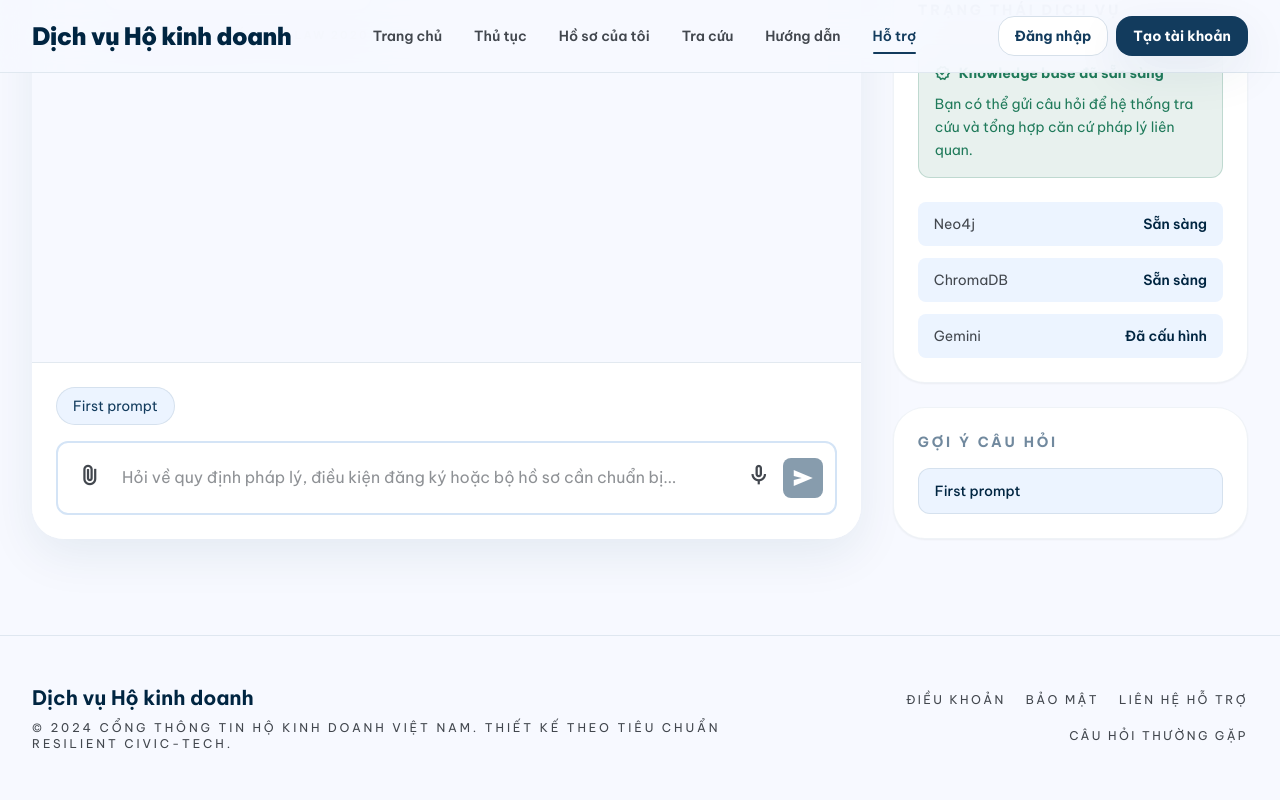
Test: Support experience › loads the support session and sends a legal assistant message with history
(page scrolled)
Type "What is required?" into the text box with placeholder "Hỏi về quy định pháp lý" at [424, 479], box [122, 457, 727, 501]
Then press Enter
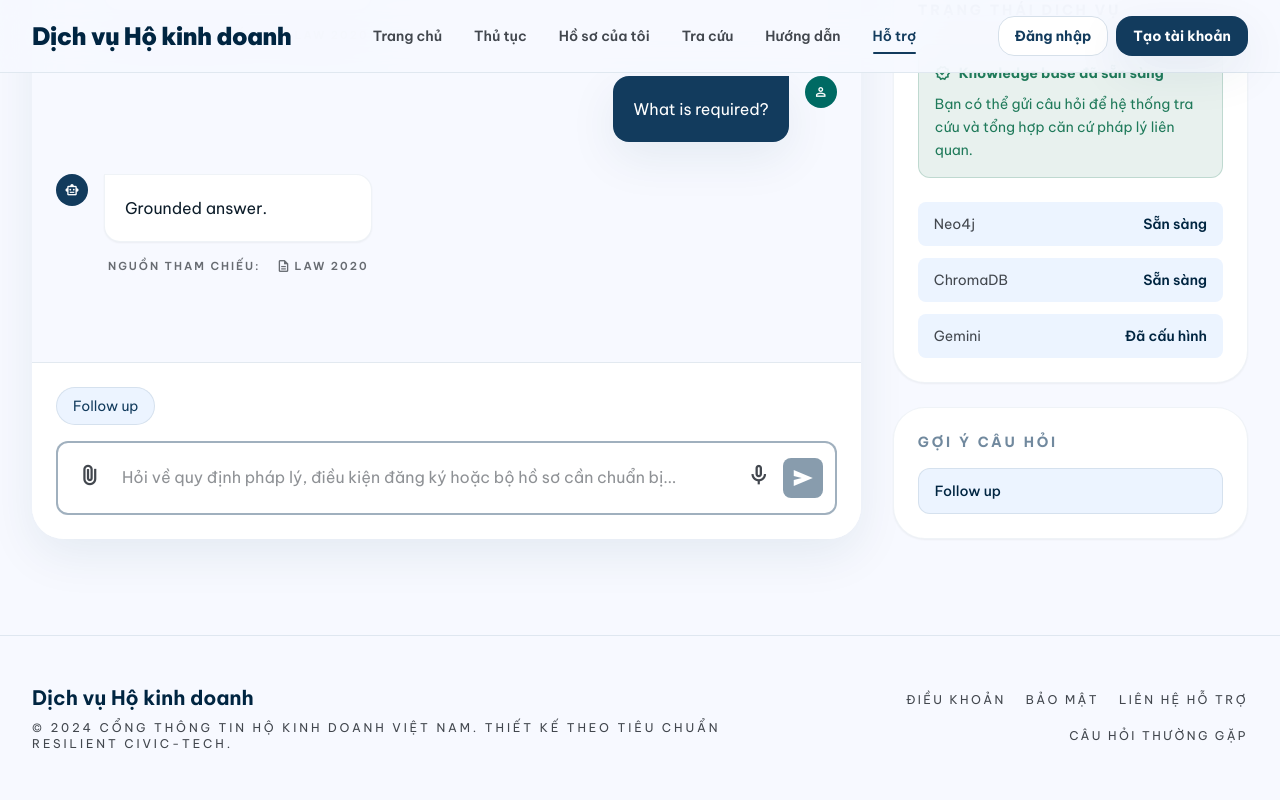
Result: the text "Grounded answer." is shown at [125, 198, 267, 218]
